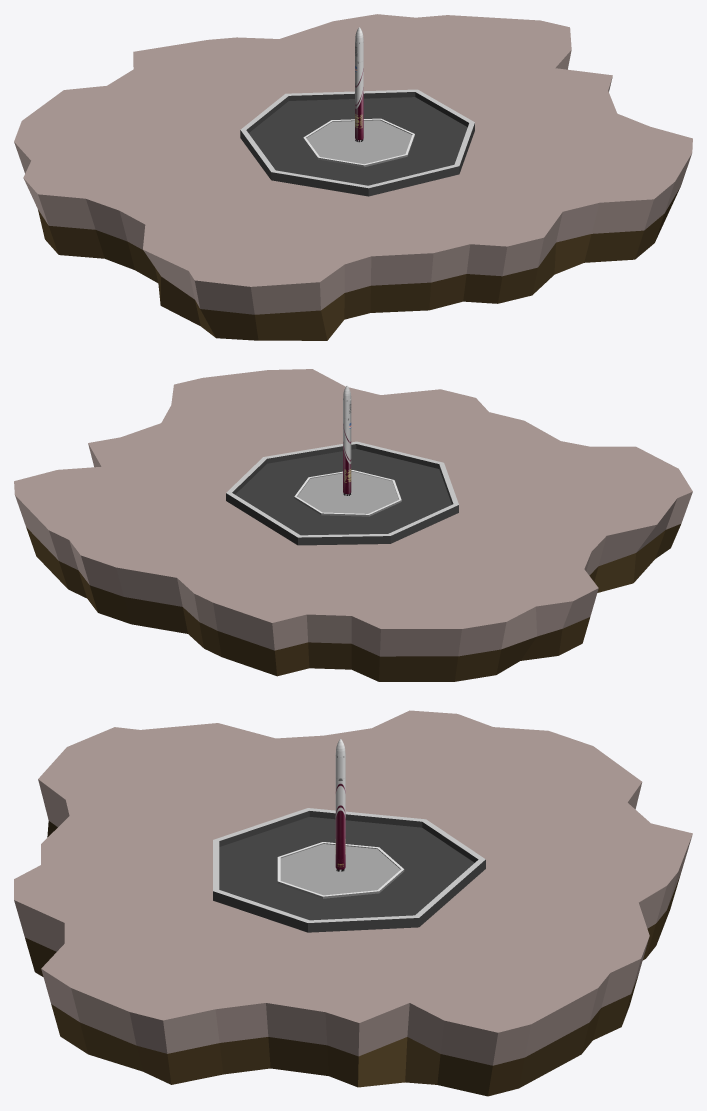
File: Zephyr.gltf
3 renders of one model, top to bottom at view 1: azimuth 30°, elevation 25°; view 2: azimuth 150°, elevation 25°; view 3: azimuth 270°, elevation 25°, orthographic. The views are drawn at different scales.
Visible parts, largest first — view 1: Cylinder.003, Cylinder.008; view 2: Cylinder.003, Cylinder.008; view 3: Cylinder.003, Cylinder.008.
Part boxes in pixels (<box>): Cylinder.003: <box>14,14,692,340</box>; Cylinder.008: <box>355,27,363,142</box>; Cylinder.003: <box>14,369,692,681</box>; Cylinder.008: <box>343,385,351,495</box>; Cylinder.003: <box>14,710,692,1096</box>; Cylinder.008: <box>335,739,345,871</box>.
Bounding box in the file's own units: 8.06 × 2.45 × 7.18.
9 materials, 1 textured.
